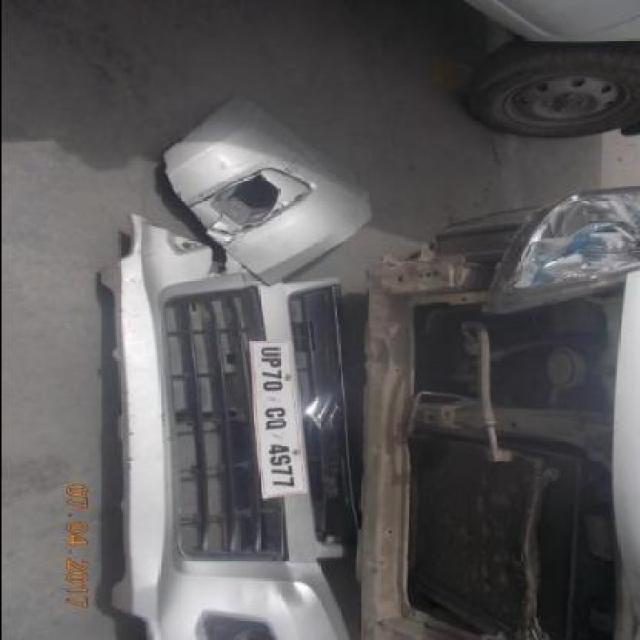damage: (334, 174, 632, 639)
